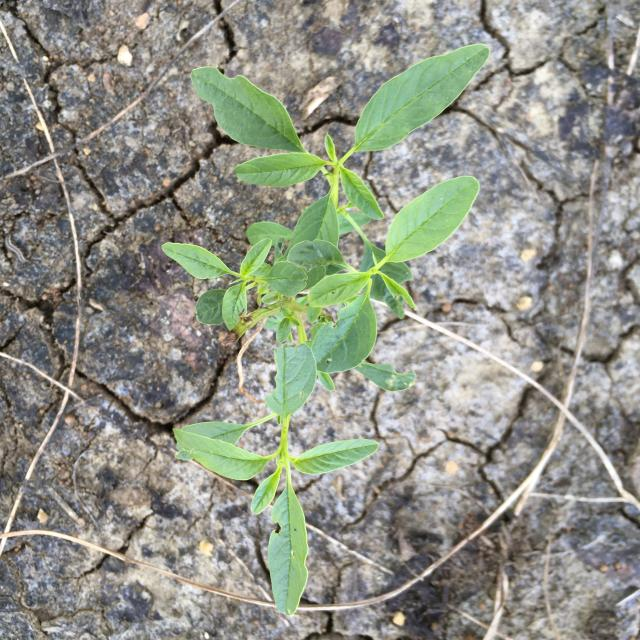Waterhemp: (161, 44, 491, 616)
